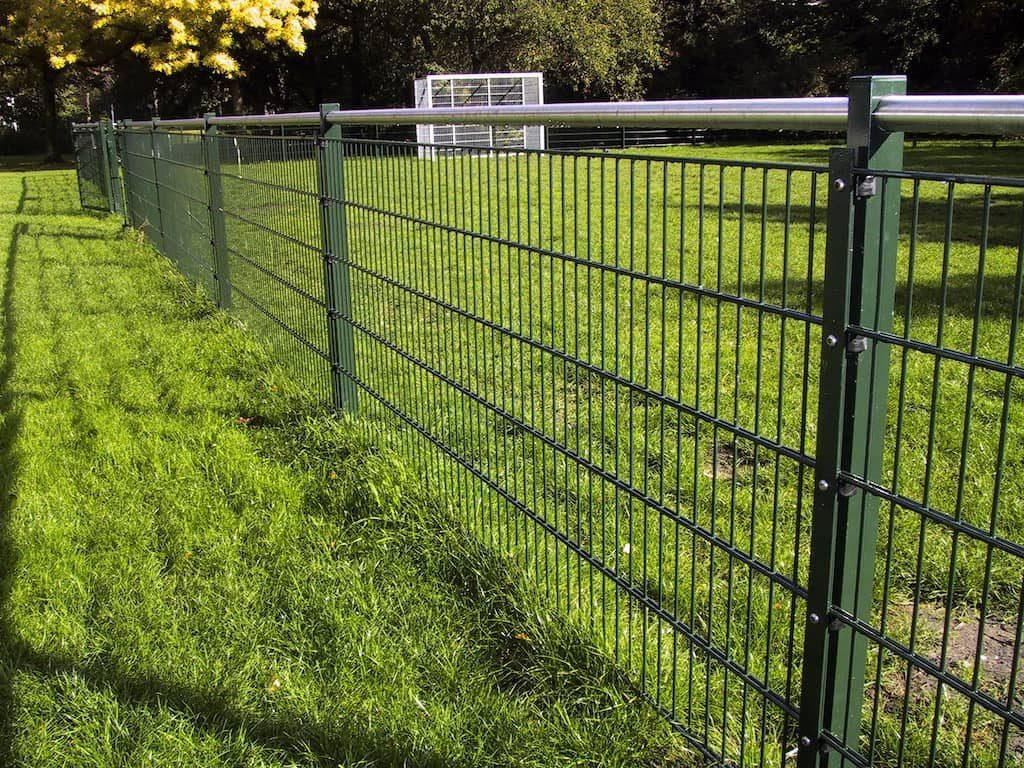obstacle: (0, 225, 1024, 762)
